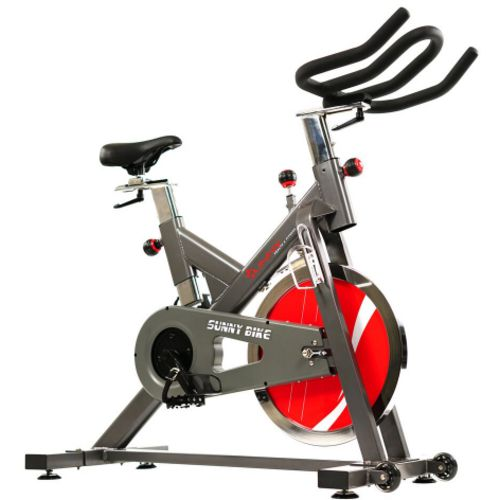gym_bike: (35, 14, 476, 493)
